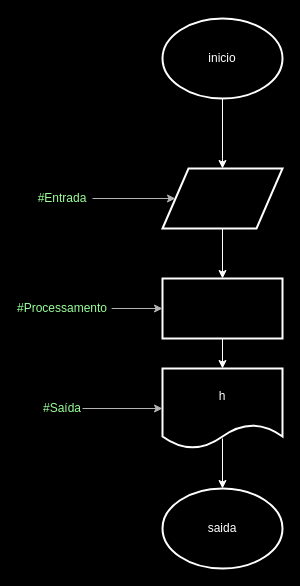
This 300x586 diagram has some shape labels left out. The shapes that lost their labels are listed below. From the top down, each one's box as (x1, y1, x2, y2) in pixels, then its label:
(161, 167, 283, 229): horas,minutos
(161, 277, 283, 339): h=minutos/60+horas
